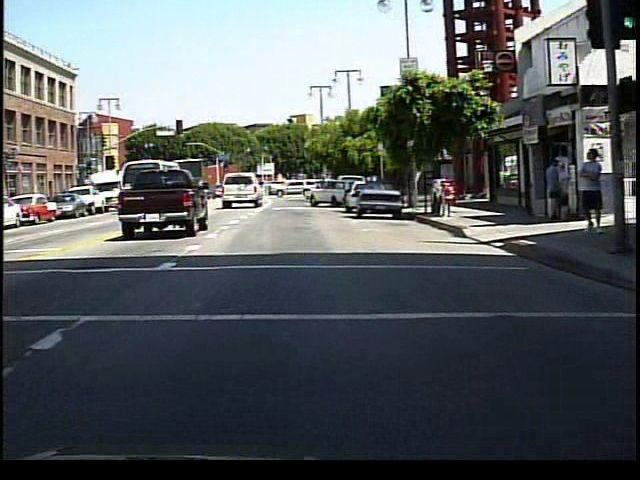person: (574, 146, 603, 237), (543, 156, 561, 224)
